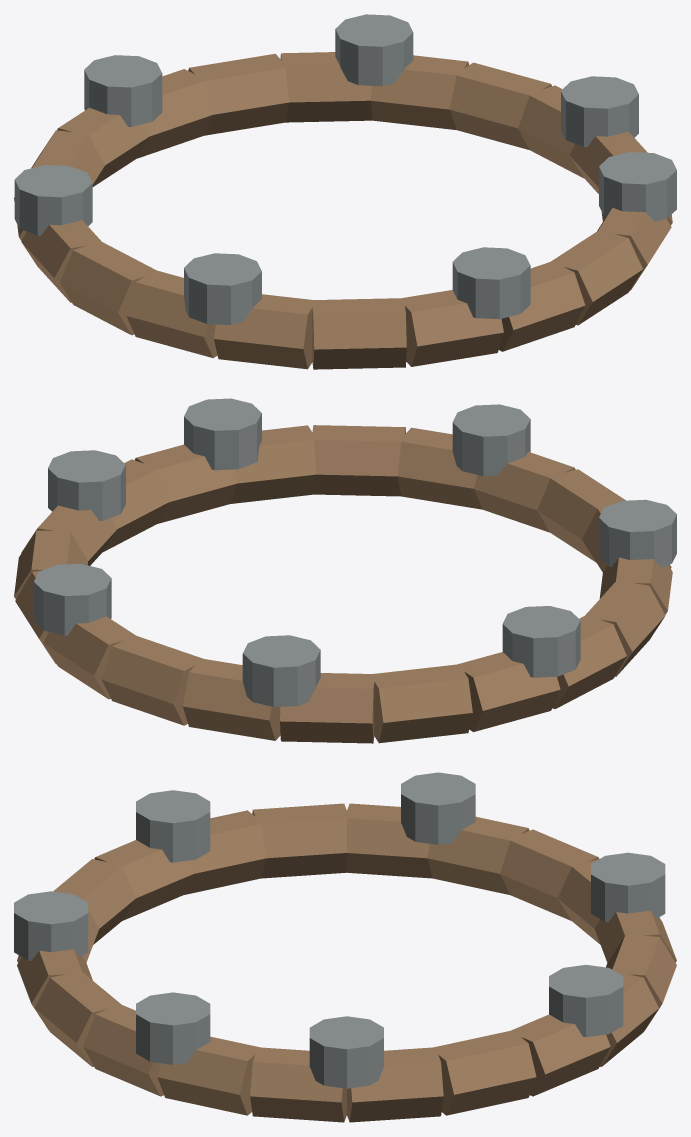
File: Tambourine.fbx
3 views of the same model, one above another, from view 1: azimuth 30°, elevation 25°; view 2: azimuth 150°, elevation 25°; view 3: azimuth 270°, elevation 25° (orthographic).
Visible parts, largest first — view 1: Tambourine_Geometry; view 2: Tambourine_Geometry; view 3: Tambourine_Geometry.
Part boxes in pixels (x1,y1,x2,y2): Tambourine_Geometry: (14,14,676,369); Tambourine_Geometry: (14,398,676,743); Tambourine_Geometry: (14,772,676,1122).
Bounding box in the file's own units: 76.45 × 10.46 × 76.23.
